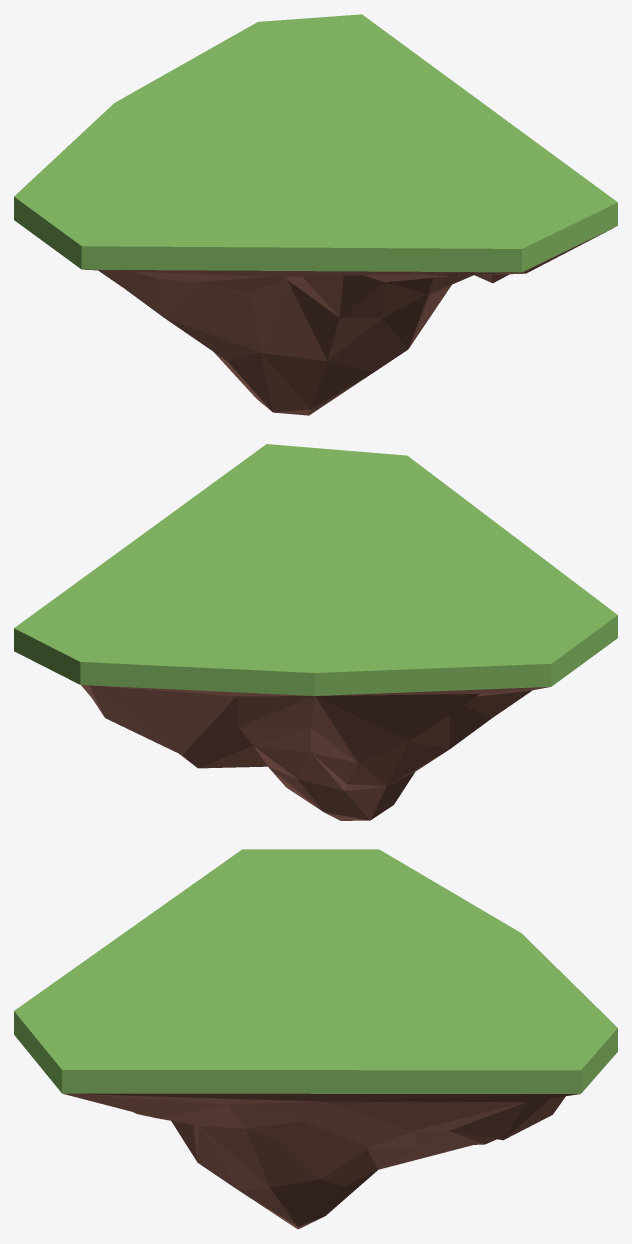
Rendered from Island15.fbx.
3 renders of one model, top to bottom at view 1: azimuth 30°, elevation 25°; view 2: azimuth 150°, elevation 25°; view 3: azimuth 270°, elevation 25°, orthographic. The views are drawn at different scales.
Parts seen in each view (by area): view 1: Island15; view 2: Island15; view 3: Island15.
Part boxes in pixels (x1,y1,x2,y2): Island15: (14, 14, 617, 415); Island15: (14, 444, 617, 820); Island15: (14, 849, 617, 1229).
Bounding box in the file's own units: 3.39 × 1.82 × 3.92.
